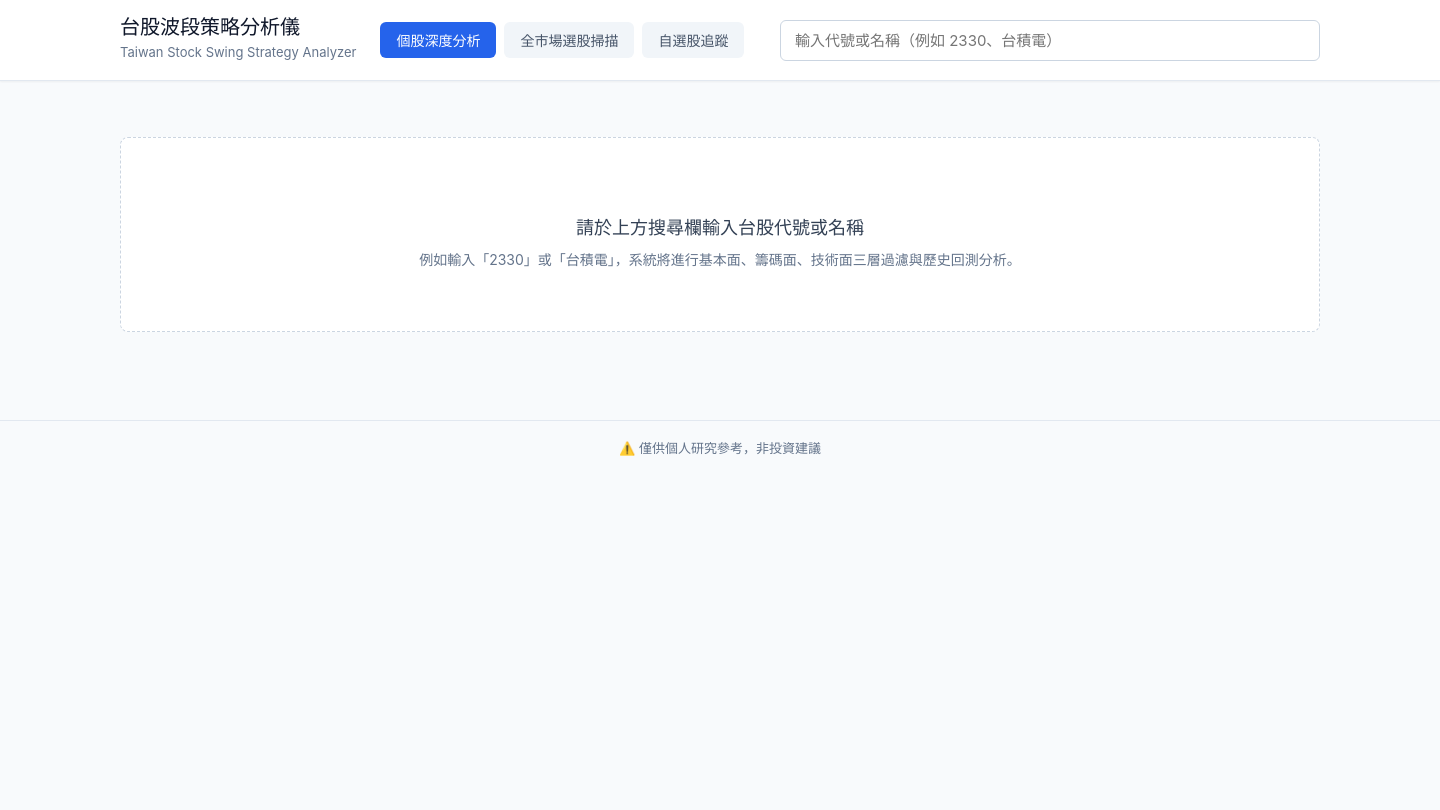
Test: App Component Integration › renders welcome box initially and updates with analysis results on selecting stock
Expected: the element with test id "welcome-box" is shown, [120,137,1320,332]
Expected: the footer with test id "disclaimer" is shown, [0,420,1439,476]
Note: Type into SearchBox
Type "2330" into the field named "股票搜尋".
click(1050, 40); type("2330")  # box [780,20,1320,61]
Wait 250 ms
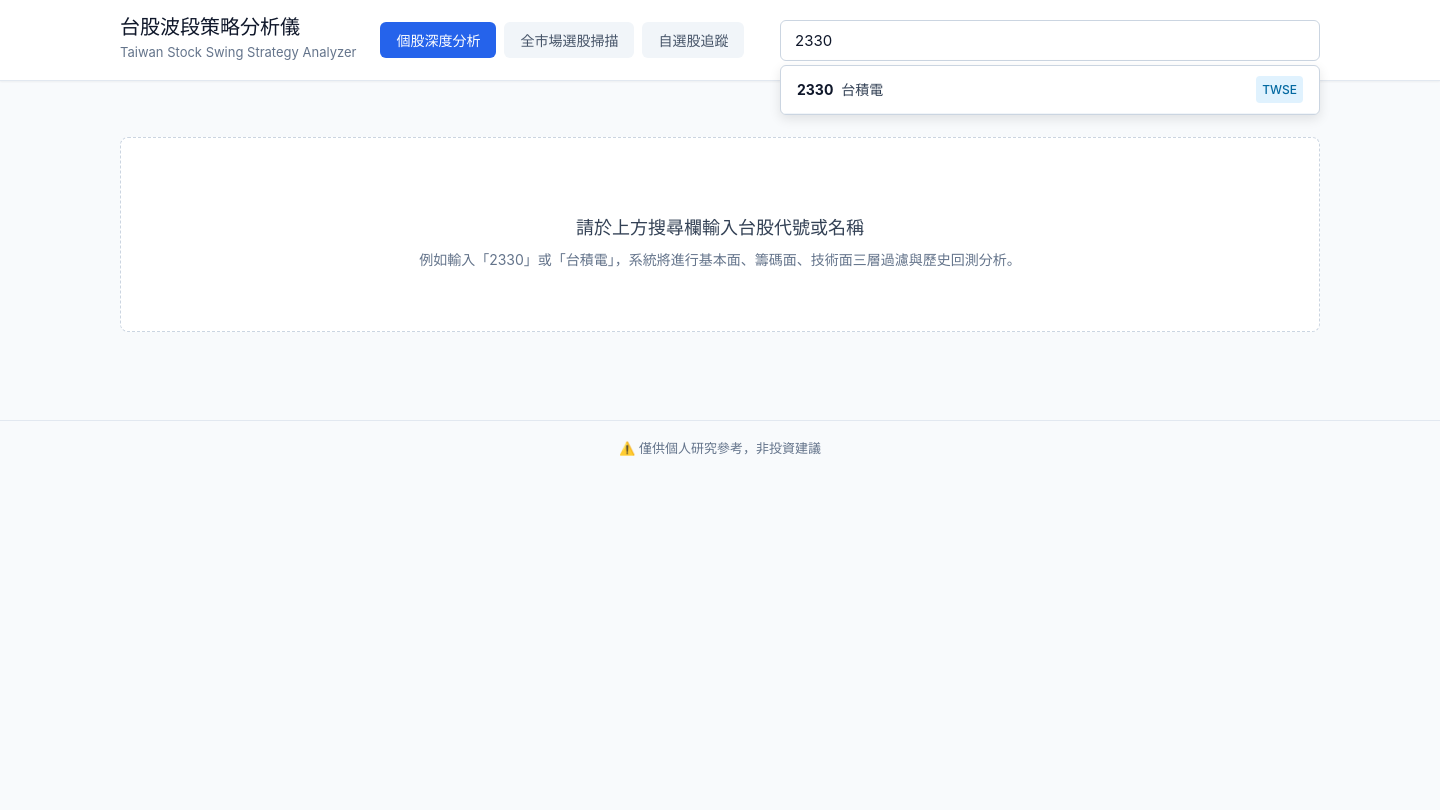
Note: Click candidate
Click the text "台積電".
click(862, 89)  # box [841,81,883,98]
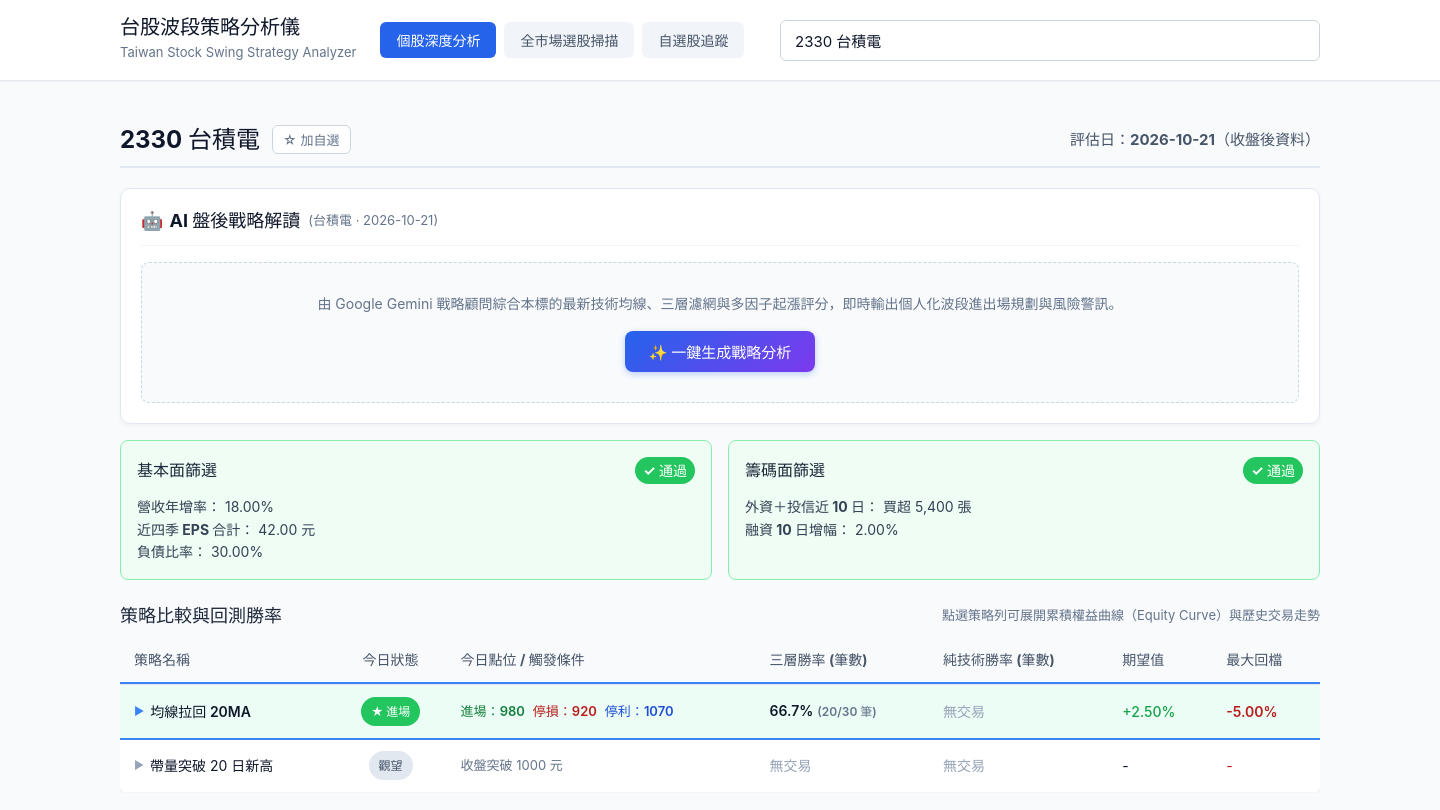
Now the element with test id "evaluation-header" is shown, box [120,125,1320,168]
Now the heading "2330 台積電" is shown, box [120,128,260,152]
Now the button with test id "watchlist-toggle-btn" shows "加自選", box [272,125,351,154]
Note: Switch strategy by clicking on 帶量突破 20 日新高
Click the row with test id "strategy-row-帶量突破 20 日新高".
click(720, 766)  # box [120,738,1320,793]
(page scrolled)
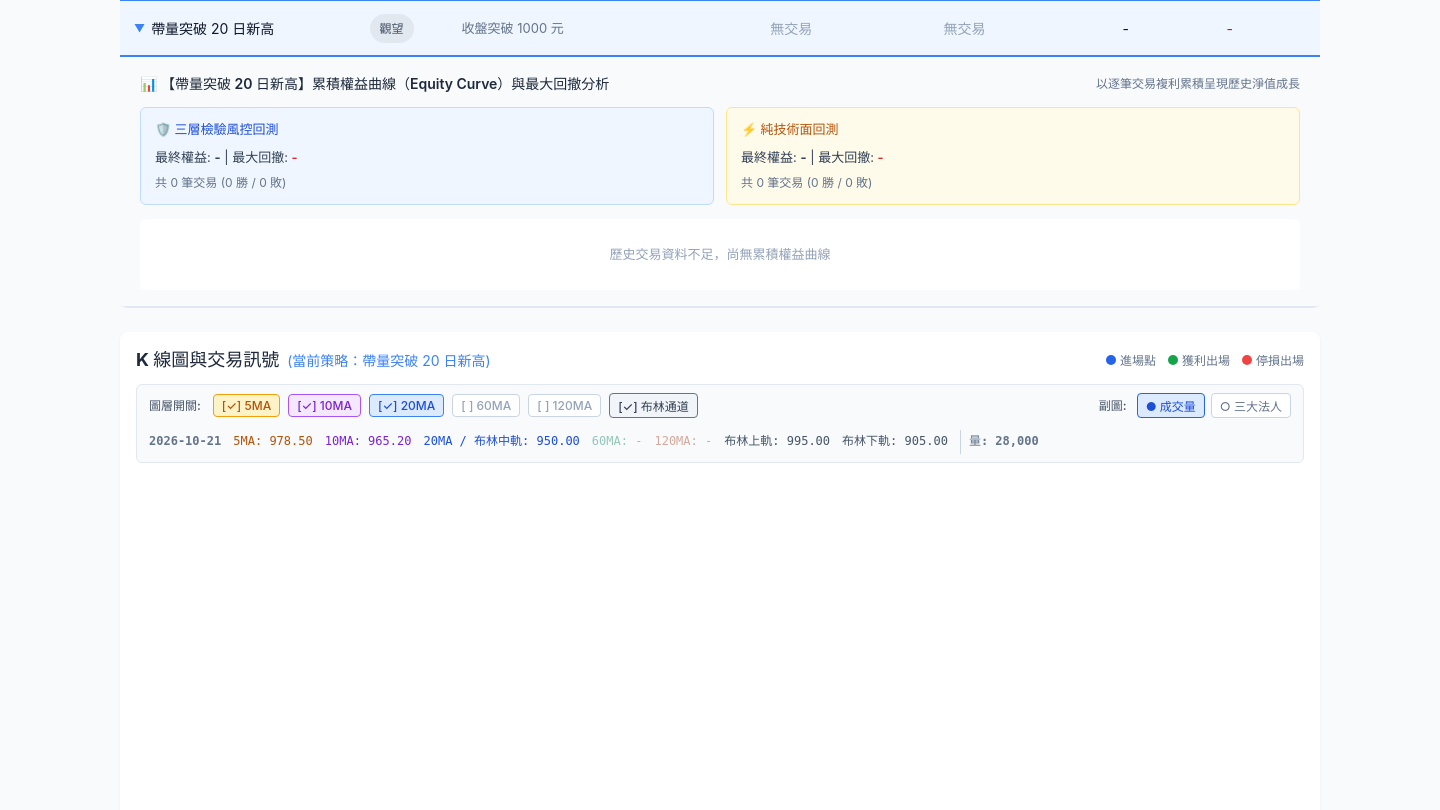
Now the element with test id "layer-controls" is shown, box [149,393,698,418]
Now the element with test id "chart-legend" is shown, box [149,430,1039,454]
Now the text "(當前策略：帶量突破 20 日新高)" is shown, box [287,352,491,369]
Note: Toggle bollinger off
Click the button with test id "toggle-bollinger".
click(653, 406)  # box [609,393,698,418]
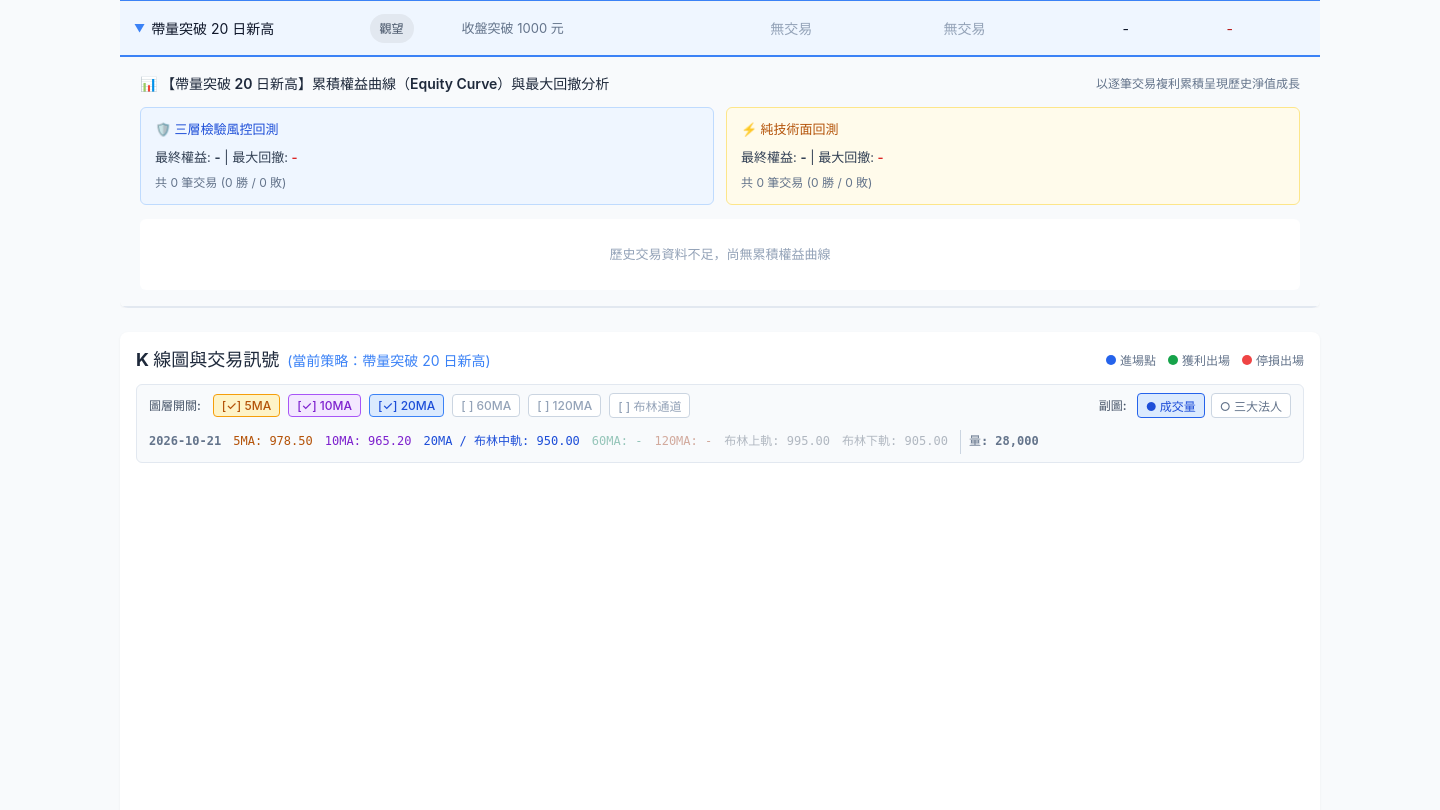
Now the button with test id "toggle-bollinger" reads "[ ] 布林通道", box [609,393,690,418]
